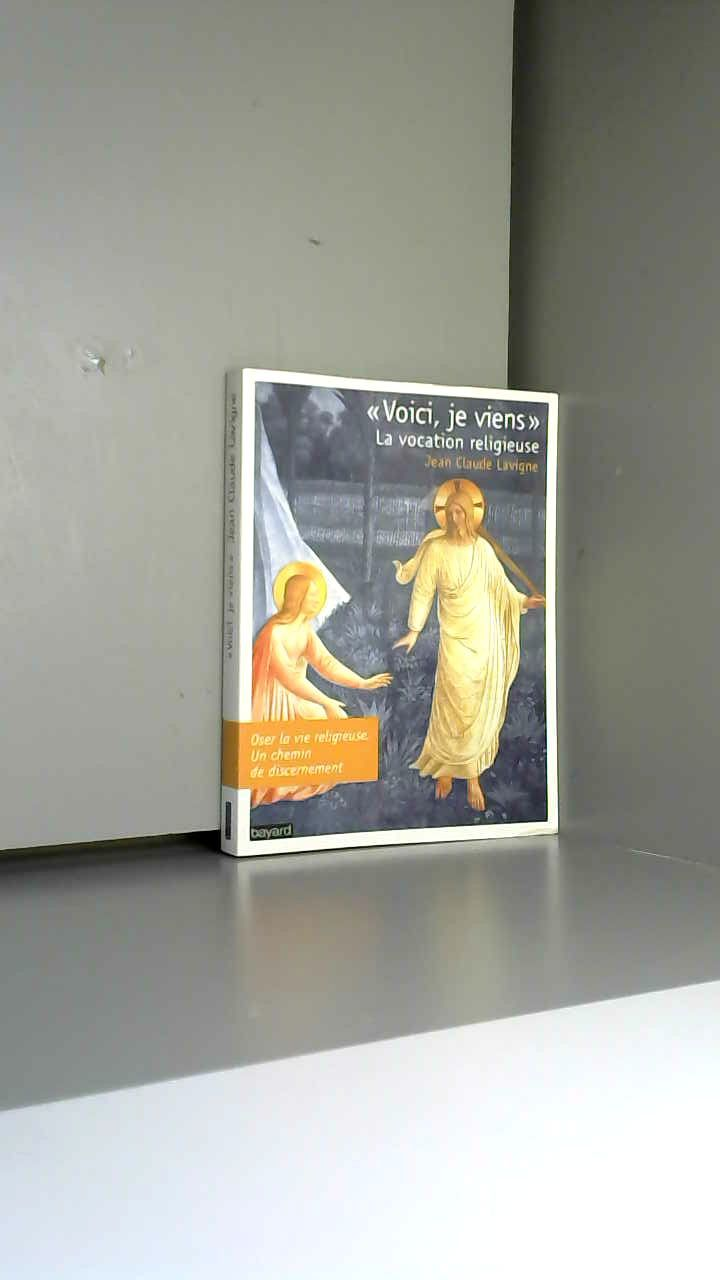book: (191, 329, 610, 898)
